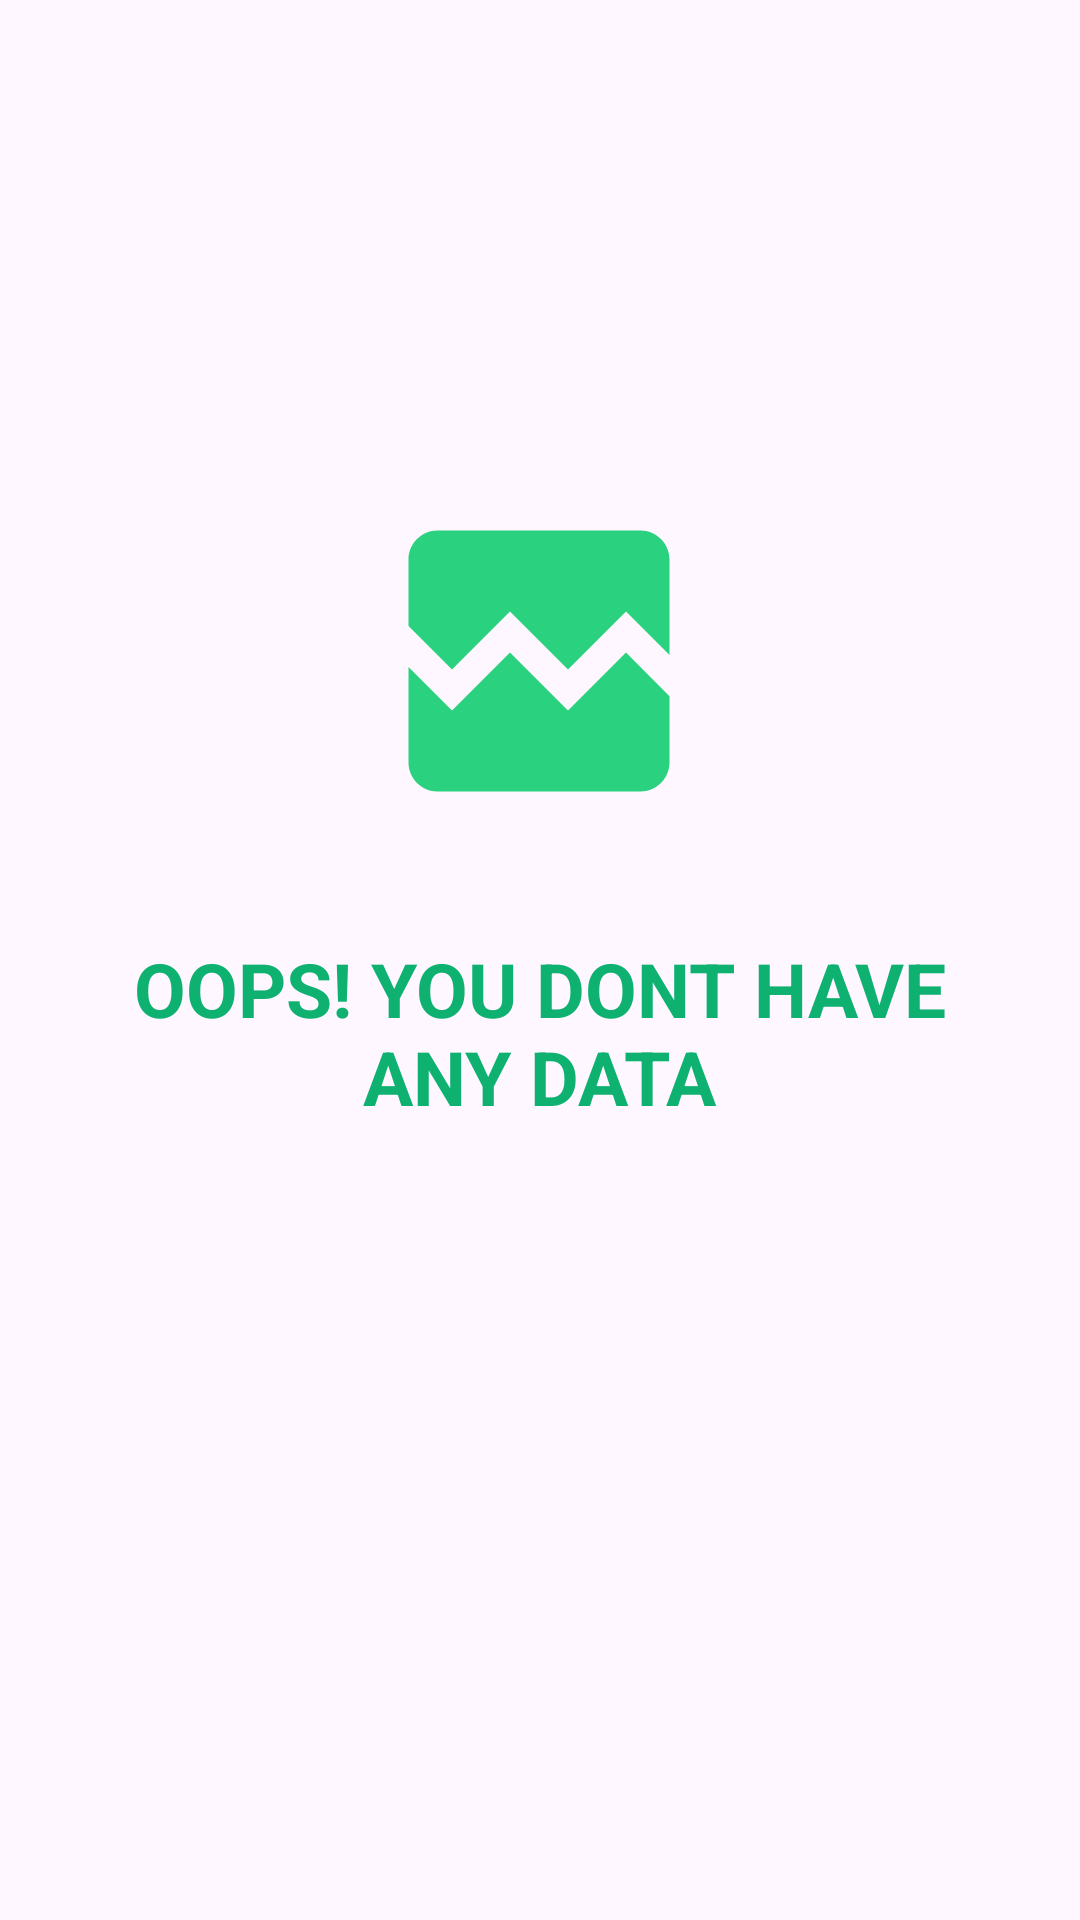

Icon bounding boxes for this 1080px×1920px phone screenshot, format (x1, y1, x2, y2):
no data: (408, 530, 670, 792)
